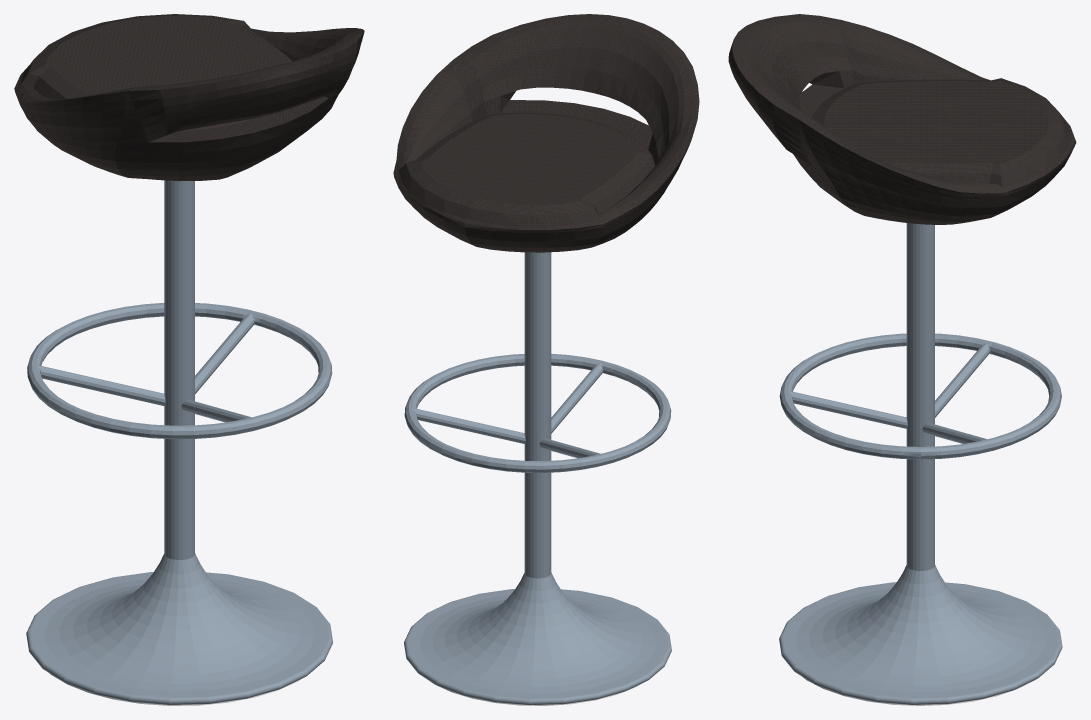
File: chair1.glb
The picture shows the model from 3 angles, left to right: view 1: azimuth 30°, elevation 25°; view 2: azimuth 150°, elevation 25°; view 3: azimuth 270°, elevation 25°; orthographic projection. The views are drawn at different scales.
Parts seen in each view (by area): view 1: Ios_Bench1, Group3; view 2: Ios_Bench1, Group3; view 3: Ios_Bench1, Group3.
Part boxes in pixels (box(x1,y1,x2,y2)): Ios_Bench1: box(14, 14, 364, 705); Group3: box(26, 180, 332, 704); Ios_Bench1: box(393, 14, 699, 705); Group3: box(404, 252, 671, 705); Ios_Bench1: box(728, 14, 1076, 705); Group3: box(779, 223, 1062, 704).
Bounding box in the file's own units: 0.453 × 0.9385 × 0.4933.
Materials: 4 (1 with a texture image).
